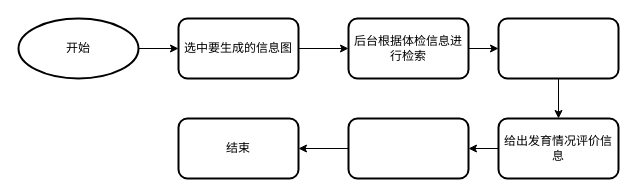
This 636x196 diagram has some shape labels left out. Each missing label, with the box of its shape:
医生查看相应的信息图: (497, 17, 619, 79)
导出: (347, 117, 469, 179)
